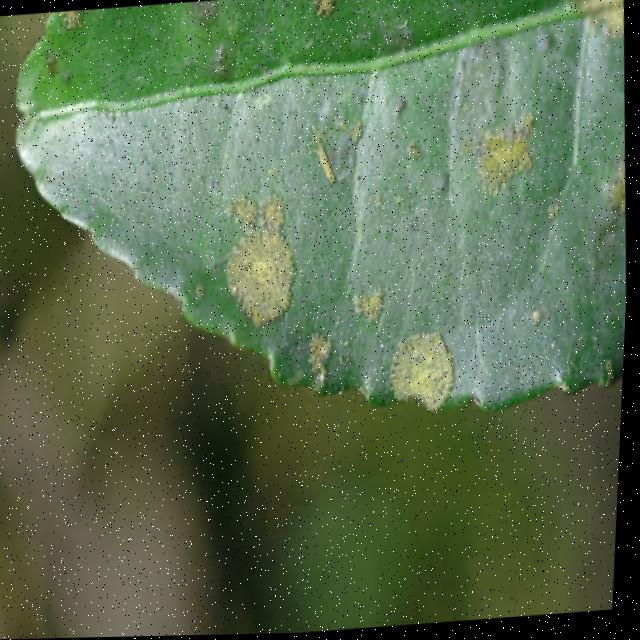Tea algae leaf spot: (205, 166, 319, 333), (461, 100, 543, 221), (298, 100, 384, 210), (377, 313, 459, 421), (300, 321, 354, 410), (344, 278, 401, 347)
